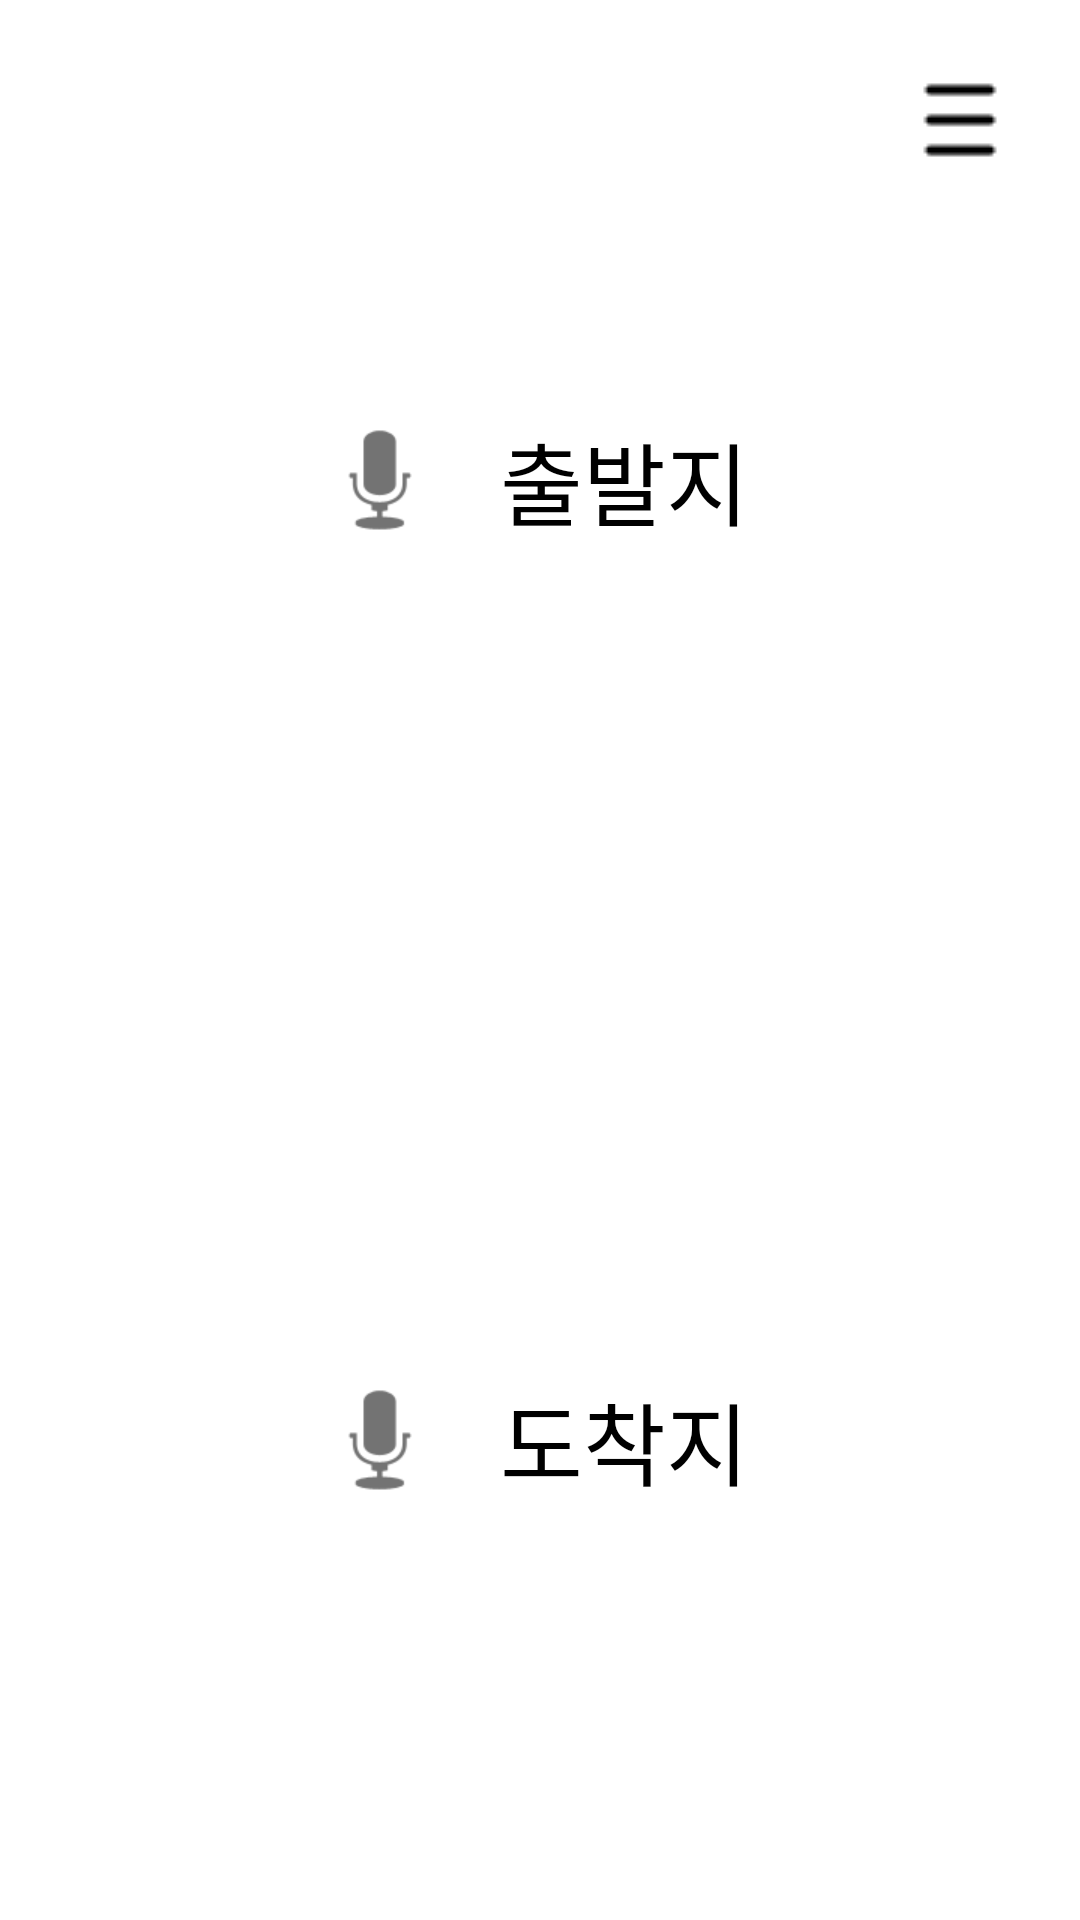

Where to tap for icons on this 1080px x 1920px app screen, as (x,y):
Menu Button: (960,120)
speak now: (379,480), (379,1440)
